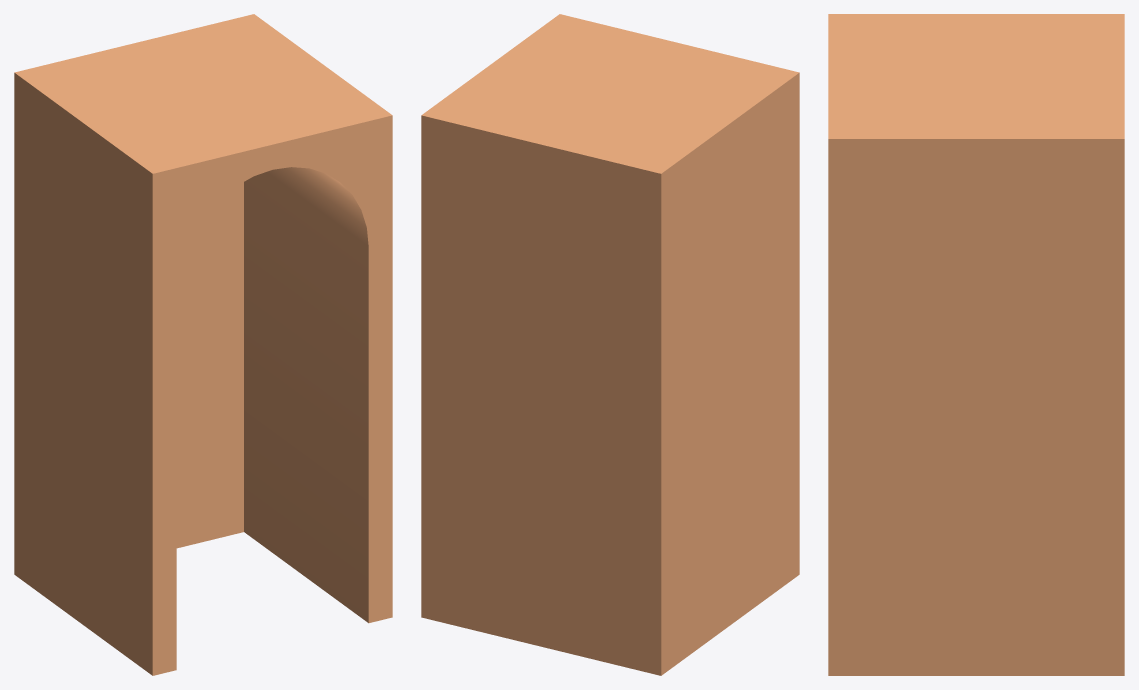
The model's file is Door_001.fbx.
The picture shows the model from 3 angles, left to right: view 1: azimuth 30°, elevation 25°; view 2: azimuth 150°, elevation 25°; view 3: azimuth 270°, elevation 25°; orthographic projection. The views are drawn at different scales.
Visible parts, largest first — view 1: Door.001; view 2: Door.001; view 3: Door.001.
Part boxes in pixels (x1,y1,x2,y2): Door.001: (14, 14, 392, 675); Door.001: (421, 14, 799, 675); Door.001: (828, 14, 1124, 675).
Bounding box in the file's own units: 100 × 200 × 100.
